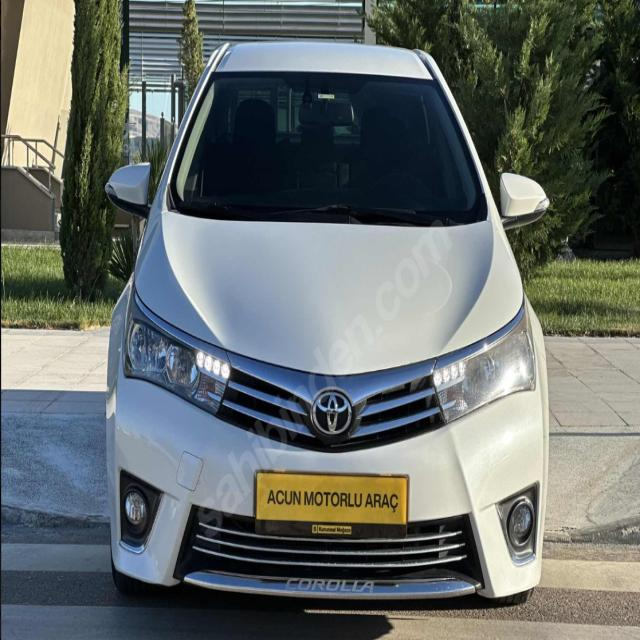toyota: (308, 383, 360, 444)
